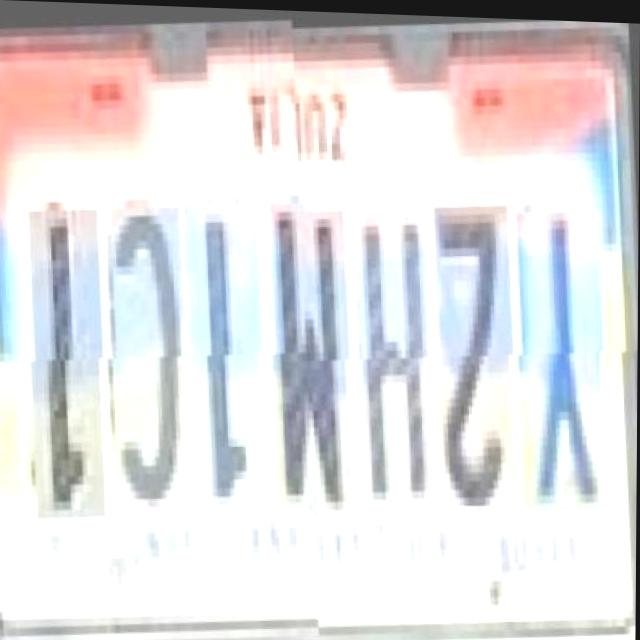1: (182, 186, 271, 509), (29, 199, 111, 513)
2: (433, 189, 520, 503)
c: (110, 196, 193, 511)
h: (351, 190, 439, 505)
m: (269, 192, 357, 506)
y: (514, 195, 612, 501)
